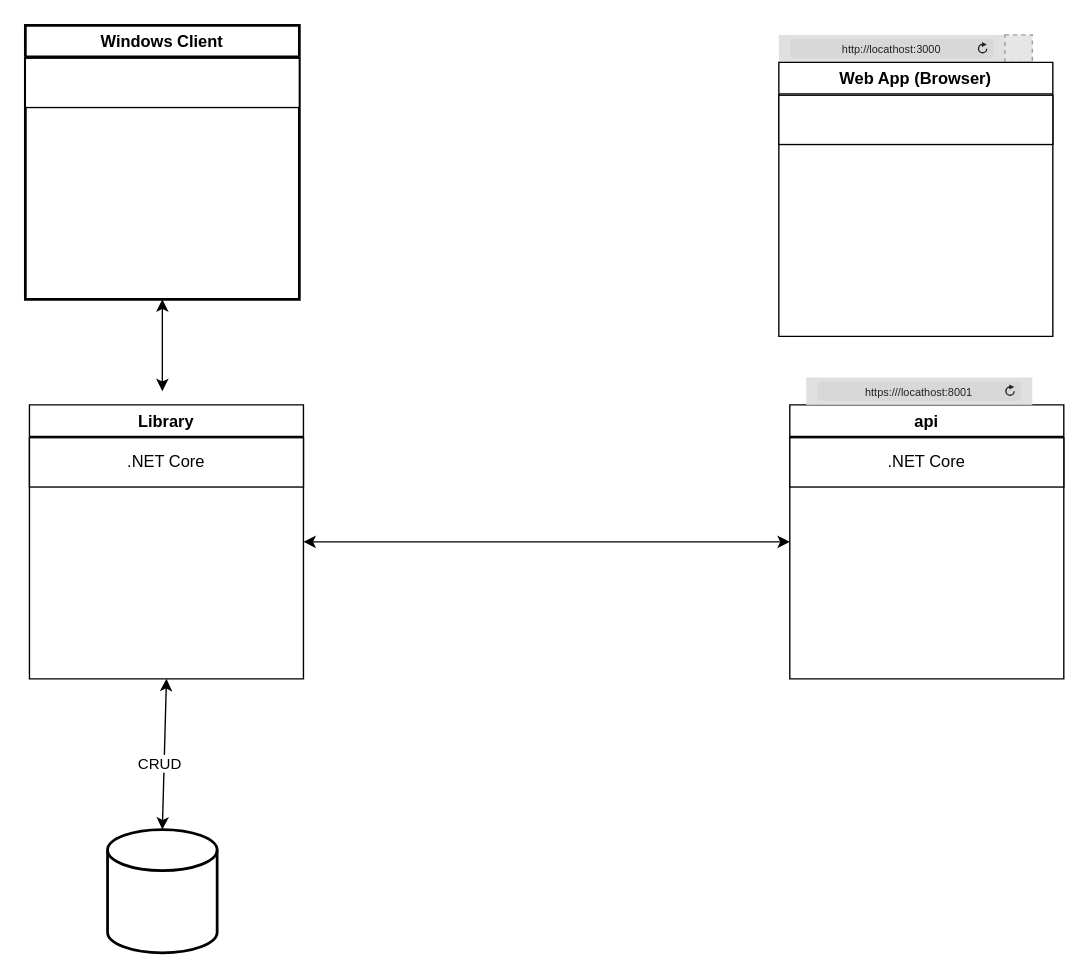
The diagram is 1088 pixels wide and 977 high, and some of its shapes have lost their labels. Grey dashed boxes stand in for pictures. The centre of each missing label's shape, as x and y in pixels:
.NET Core WPF: [161,82]
Database: [161,890]
React: [915,119]
